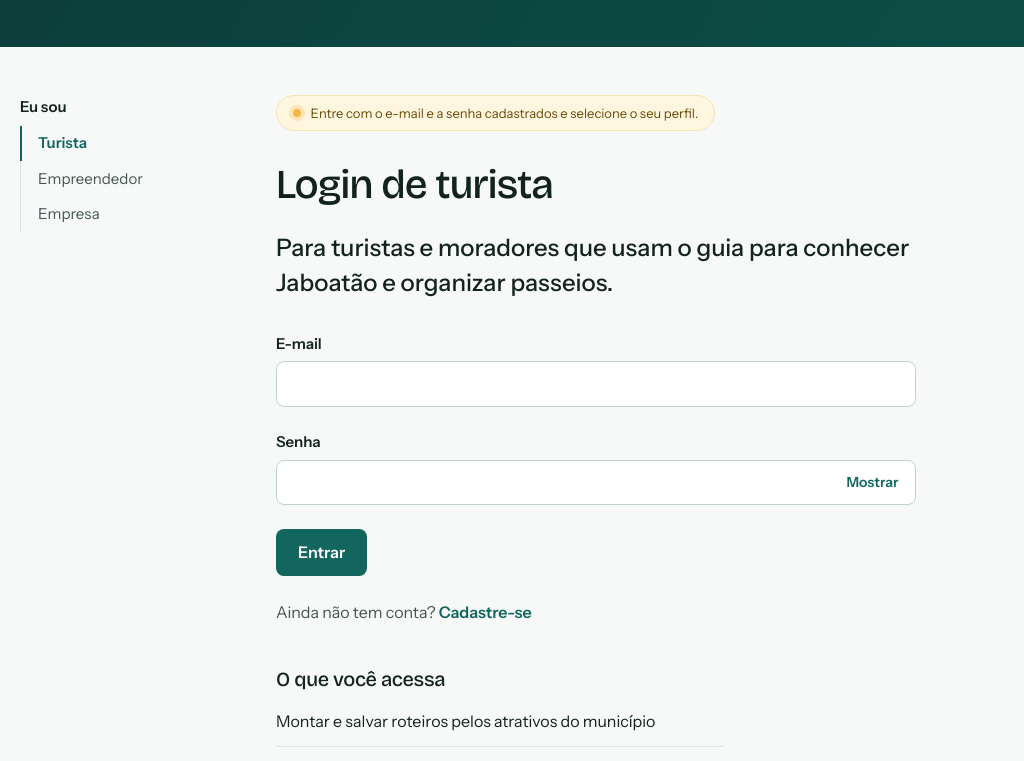
Test case: Tela de Login › recusa senha que não segue as regras do cadastro
This screenshot has width=1024, height=761.
(page scrolled)
Type "ana@exemplo.com" into the field labelled "E-mail" at (596, 384), box [276,362,916,407]
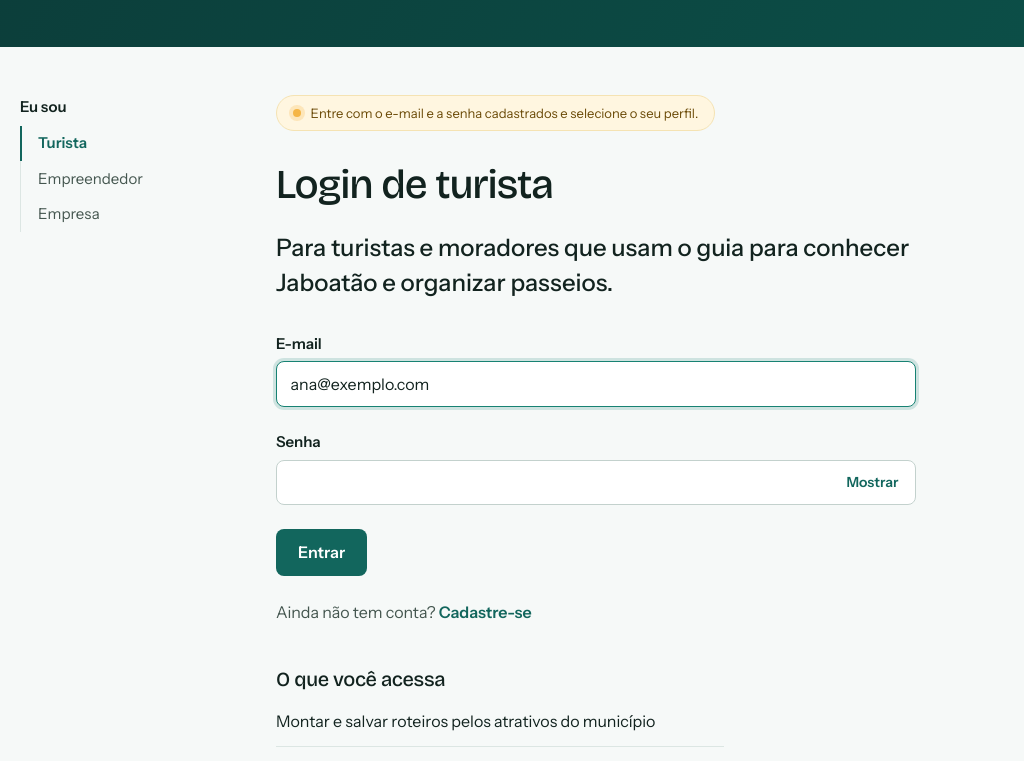
Type "segredo1" into the password field labelled "Senha" at (596, 482), box [276,460,916,505]
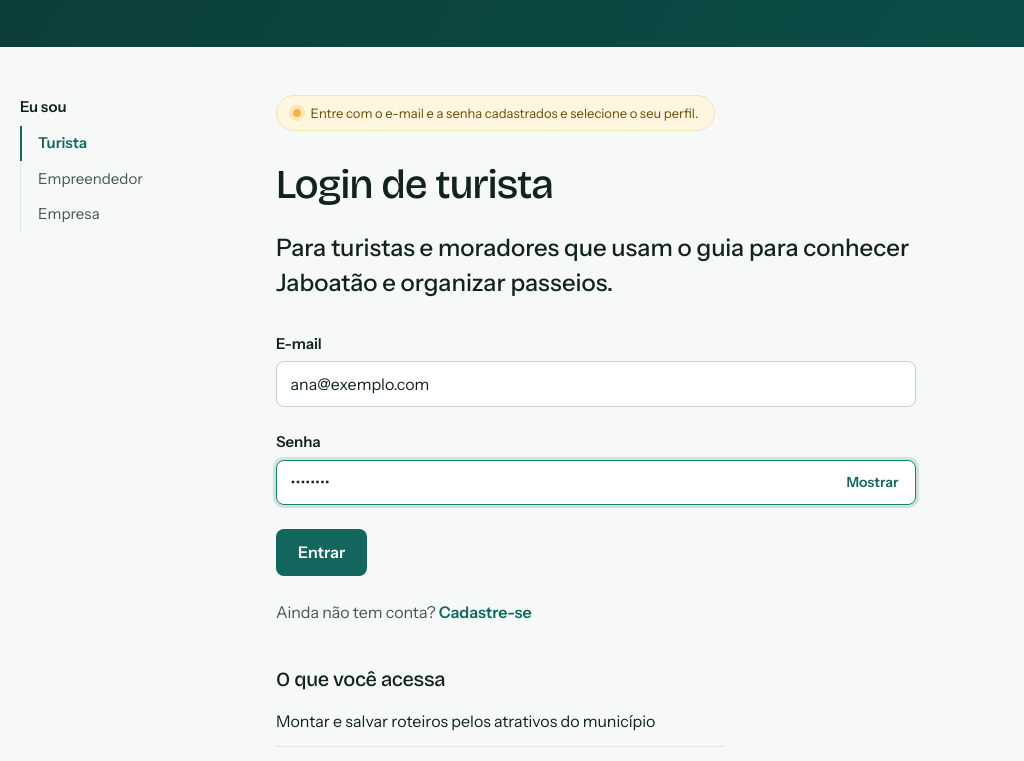
Click the button "Entrar" at (322, 552), box [276,529,367,576]
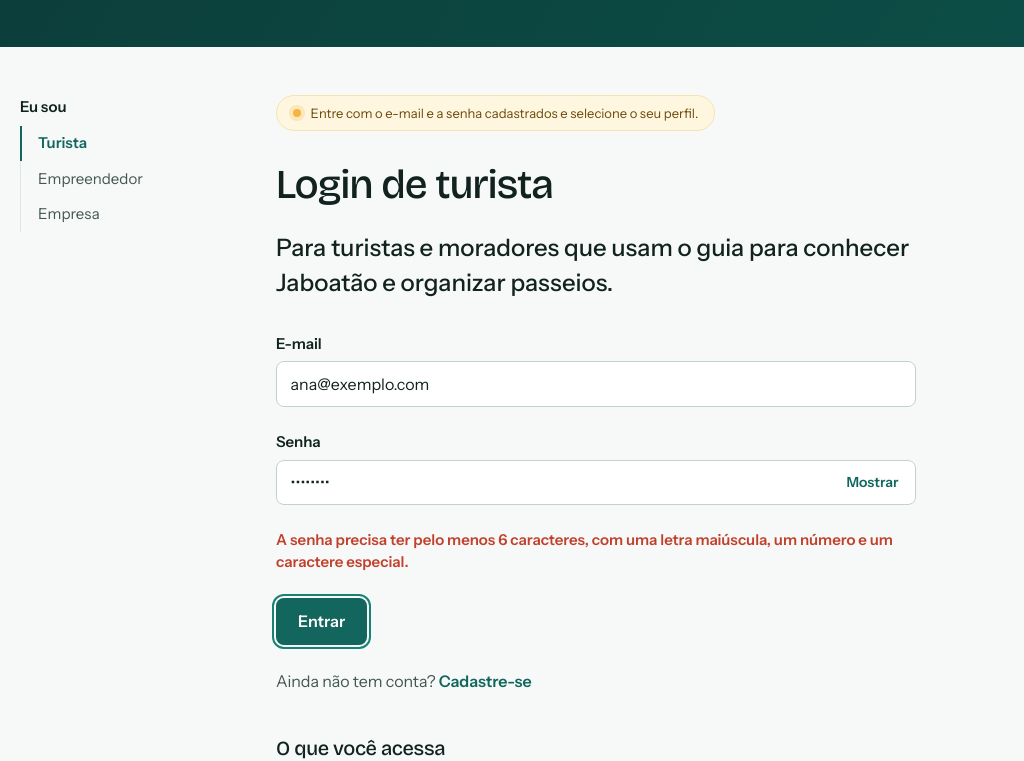
expect the message shows "caractere especial": met, box [276,530,893,571]
